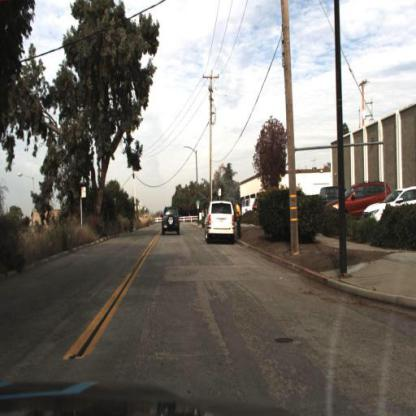car: (329, 180, 394, 218), (325, 178, 369, 229), (366, 186, 416, 224), (204, 196, 238, 250), (159, 201, 182, 238)
pedestrian: (230, 191, 245, 242)
